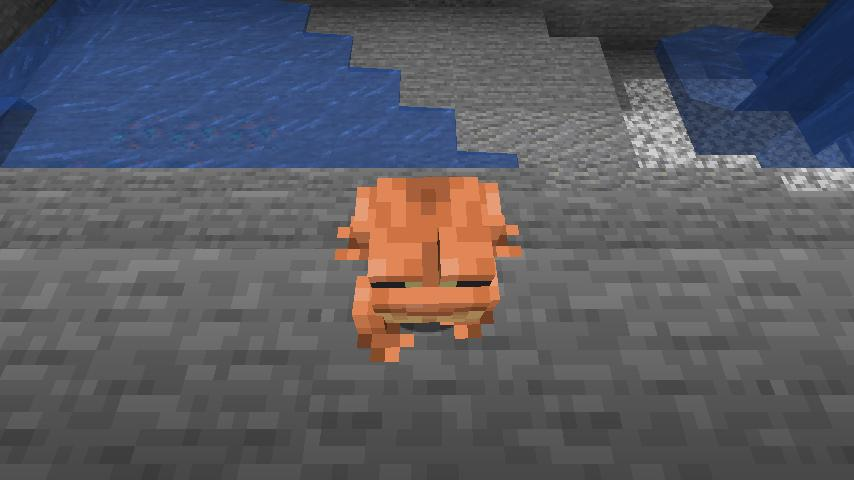frog: (331, 169, 531, 372)
